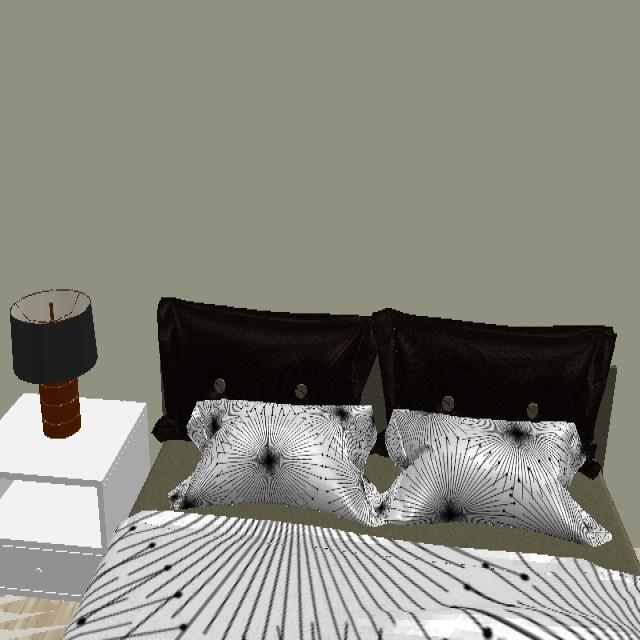bed: (62, 299, 640, 640)
lamp: (10, 288, 100, 440)
nighttable: (0, 396, 156, 604)
pillow: (168, 399, 617, 559)
